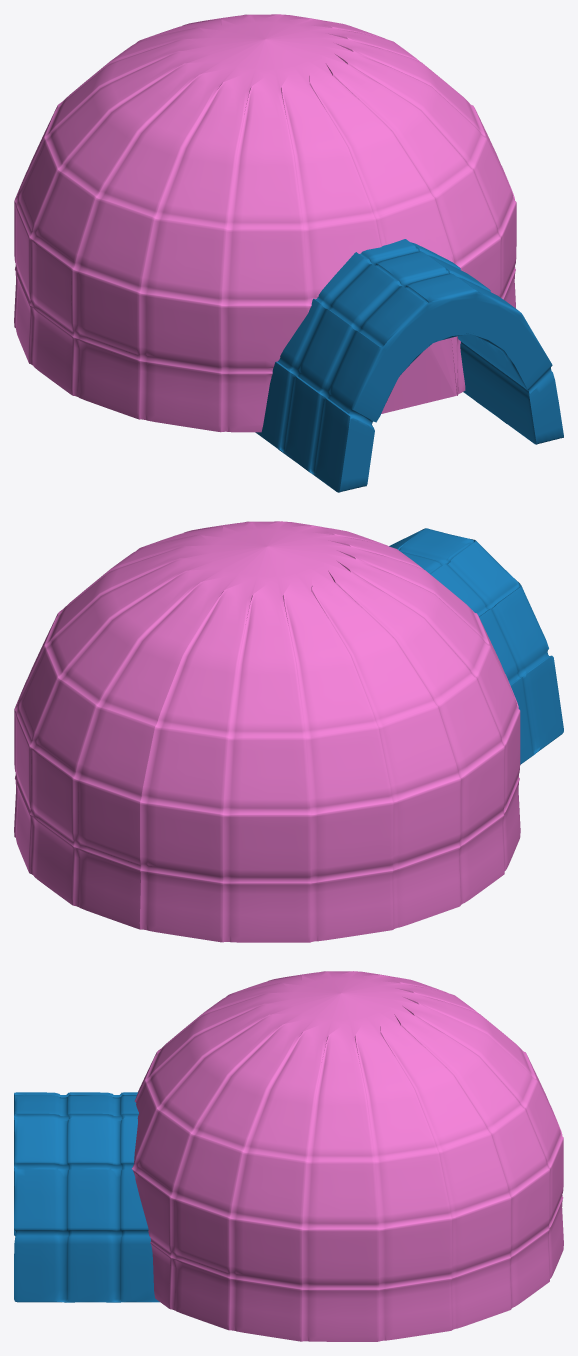
The picture shows the model from 3 angles, top to bottom: view 1: azimuth 30°, elevation 25°; view 2: azimuth 150°, elevation 25°; view 3: azimuth 270°, elevation 25°; orthographic projection. The views are drawn at different scales.
Visible parts, largest first — view 1: split_parent_0, split_parent_1; view 2: split_parent_0, split_parent_1; view 3: split_parent_0, split_parent_1.
Boxes of the visible parts, left/top/right/bottom form: split_parent_0: left=14, top=14, right=516, bottom=432; split_parent_1: left=255, top=239, right=563, bottom=492; split_parent_0: left=14, top=521, right=520, bottom=942; split_parent_1: left=389, top=528, right=563, bottom=764; split_parent_0: left=131, top=971, right=563, bottom=1341; split_parent_1: left=14, top=1092, right=159, bottom=1302.
Size of what is drawn, in the model's own units: 0.3971 by 0.259 by 0.4968.
